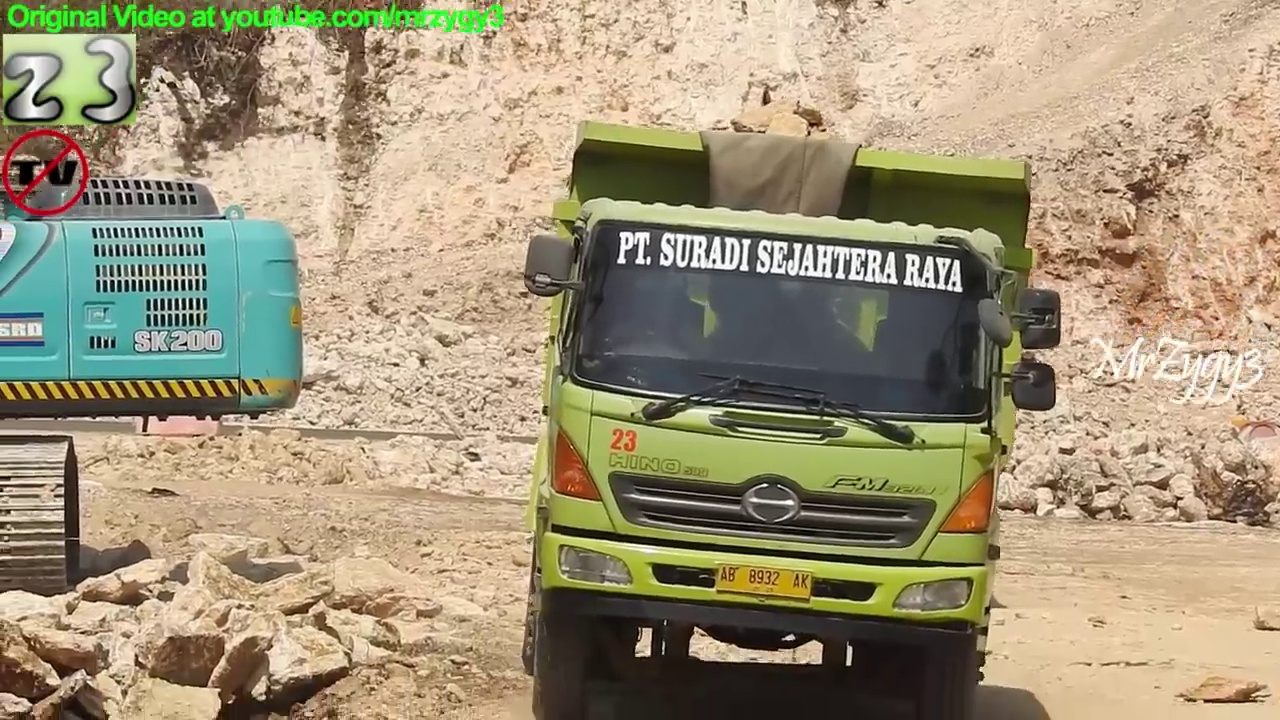excavator: (1, 1, 310, 603)
truck: (523, 114, 1076, 720)
